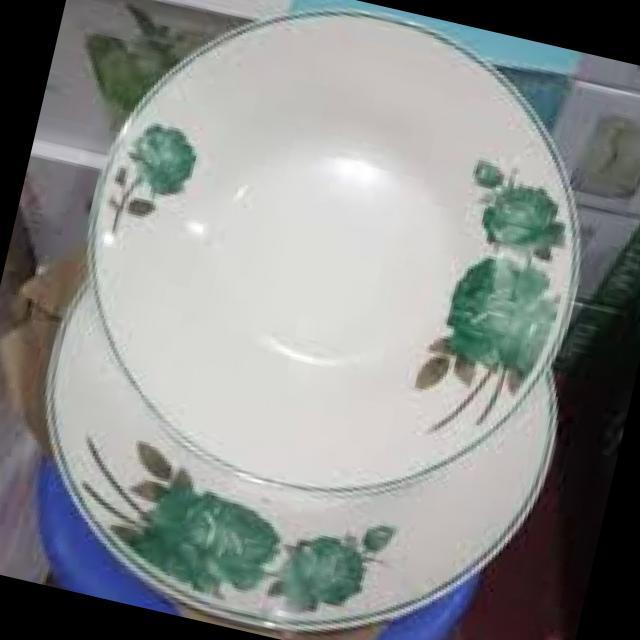plate: (100, 17, 573, 495), (54, 297, 559, 623)
